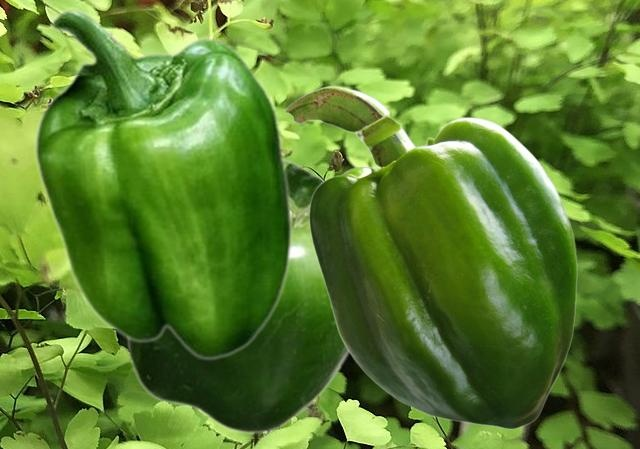bell_pepper: (284, 85, 576, 428), (33, 8, 293, 360), (126, 156, 349, 434)
